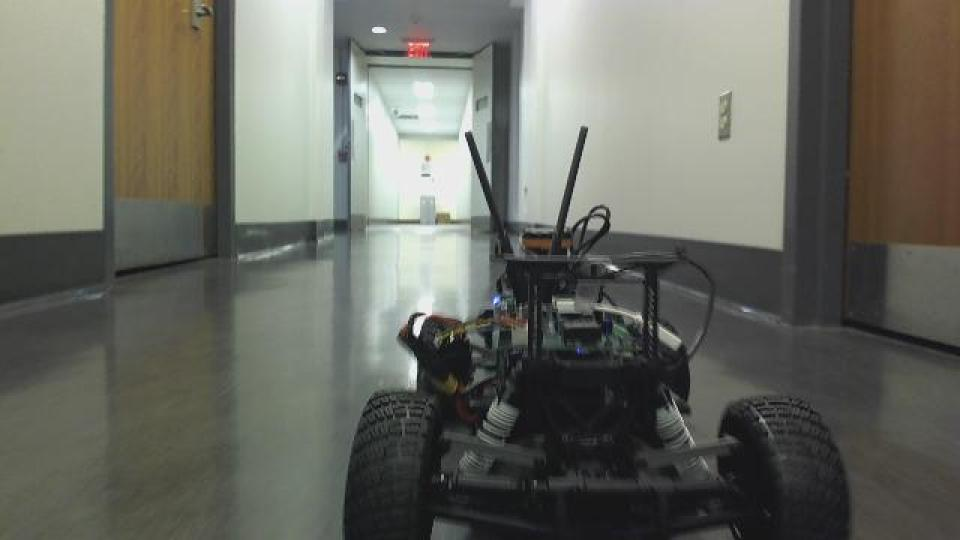car: (338, 123, 854, 537)
